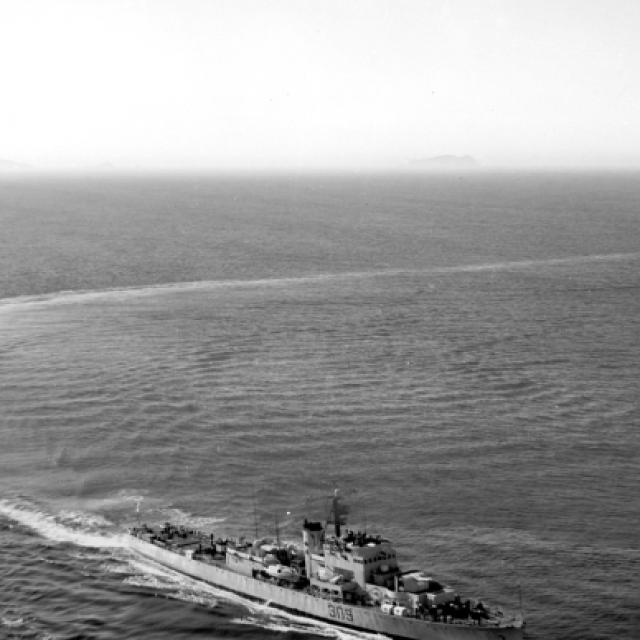Fragata: (100, 488, 540, 640)
